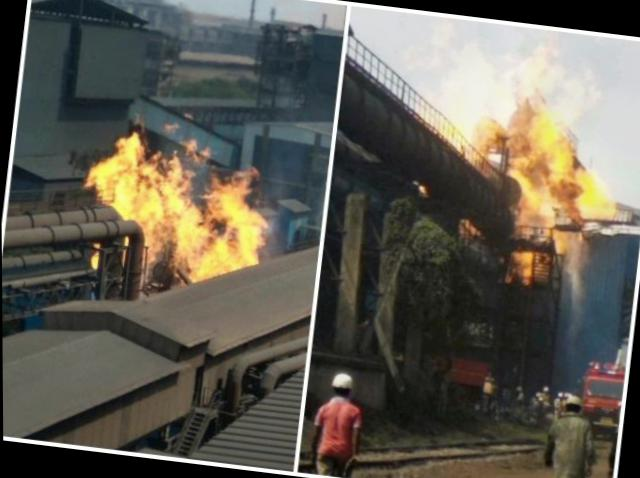fire: (146, 196, 267, 266), (102, 155, 252, 205), (524, 42, 599, 122), (118, 110, 221, 168), (517, 120, 583, 210), (455, 37, 533, 113), (417, 14, 463, 92), (573, 168, 622, 220), (109, 190, 150, 224), (190, 258, 231, 279)
